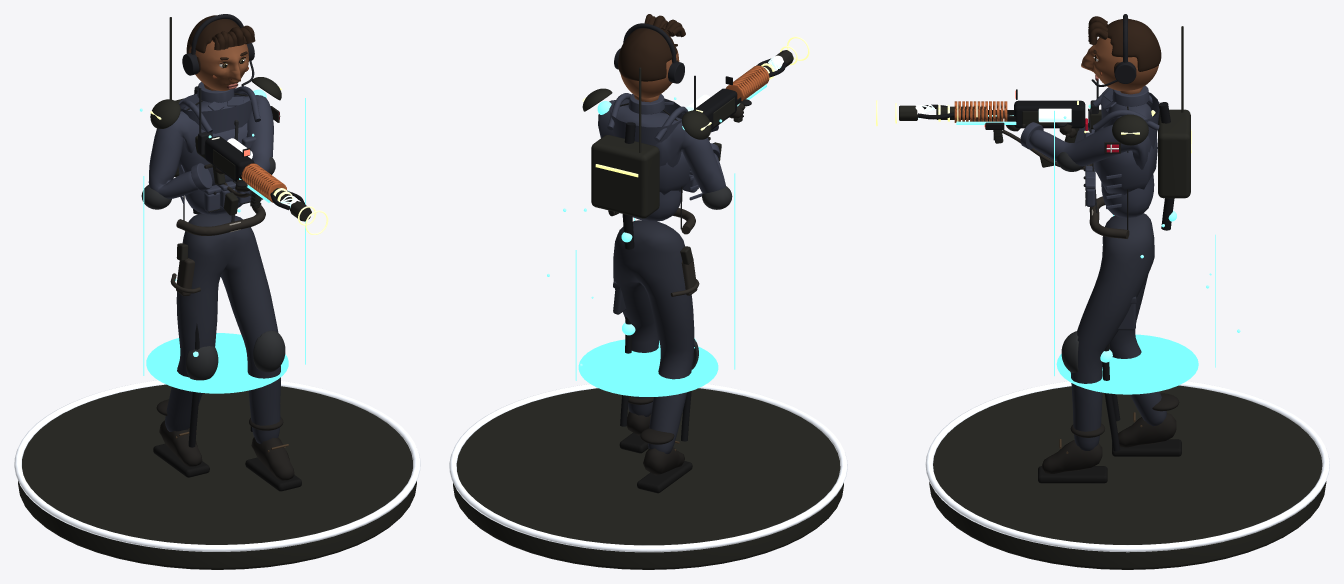
File: lyn_std.glb
3 renders of one model, left to right at view 1: azimuth 30°, elevation 25°; view 2: azimuth 150°, elevation 25°; view 3: azimuth 270°, elevation 25°, orthographic. The views are drawn at different scales.
Visible parts, largest first — view 1: fod_net, menneske_net, op1_net, op4.001_net, hoved_net, vaaben_net, op3.001_net, op3_net, op4_net; view 2: fod_net, menneske_net, op3.001_net, op4.001_net, hoved_net, op1_net, vaaben_net, op4_net, op3_net; view 3: fod_net, menneske_net, op1_net, op4.001_net, hoved_net, op3.001_net, vaaben_net, op4_net, op3_net.
Part boxes in pixels (x1,y1,x2,y2): fod_net: [14, 380, 420, 569]; menneske_net: [148, 82, 301, 491]; op1_net: [141, 86, 285, 380]; op4.001_net: [140, 98, 305, 393]; hoved_net: [182, 14, 255, 90]; vaaben_net: [195, 135, 305, 210]; op3.001_net: [150, 17, 281, 176]; op3_net: [211, 137, 311, 221]; op4_net: [188, 86, 266, 447]; fod_net: [449, 384, 847, 569]; menneske_net: [598, 94, 751, 493]; op3.001_net: [582, 67, 711, 218]; op4.001_net: [547, 97, 735, 396]; hoved_net: [614, 14, 685, 98]; op1_net: [607, 75, 732, 369]; vaaben_net: [686, 55, 786, 129]; op4_net: [597, 101, 696, 441]; op3_net: [696, 50, 793, 126]; fod_net: [925, 381, 1329, 569]; menneske_net: [999, 85, 1181, 483]; op1_net: [1056, 80, 1159, 372]; op4.001_net: [1054, 110, 1240, 394]; hoved_net: [1081, 14, 1161, 90]; op3.001_net: [1112, 26, 1191, 198]; vaaben_net: [915, 100, 1101, 142]; op4_net: [1100, 102, 1176, 451]; op3_net: [899, 101, 1078, 125].
Size of the model in its own units: 1.94 by 2.48 by 2.17.
